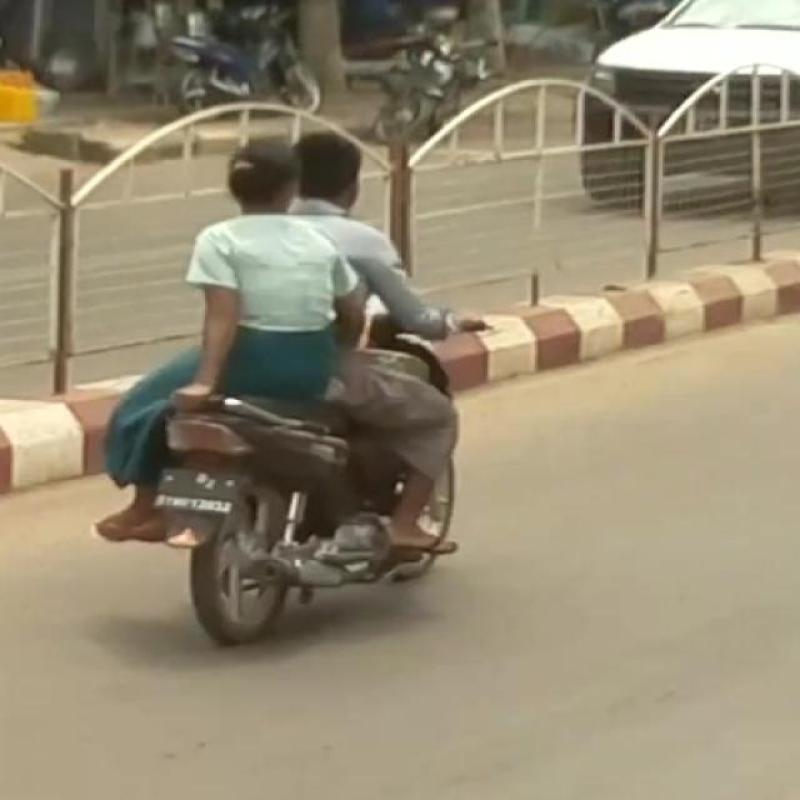nohelmet: (233, 138, 342, 224)
